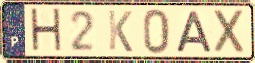0: (141, 7, 171, 56)
2: (69, 9, 97, 53)
A: (173, 10, 214, 54)
H: (29, 6, 65, 55)
K: (107, 9, 134, 54)
X: (213, 8, 248, 56)
